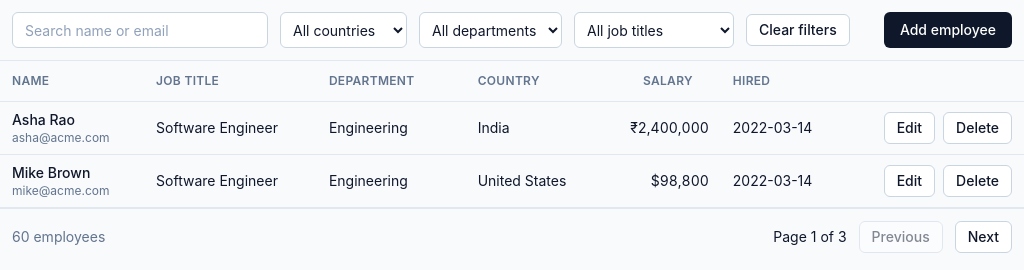
Test: EmployeesPage › paging › loads the next page when Next is clicked
The image size is (1024, 270).
Expected: the text "Asha Rao" is shown, [12, 110, 75, 128]
Click the button "Next" at (983, 236), box [955, 220, 1012, 252]
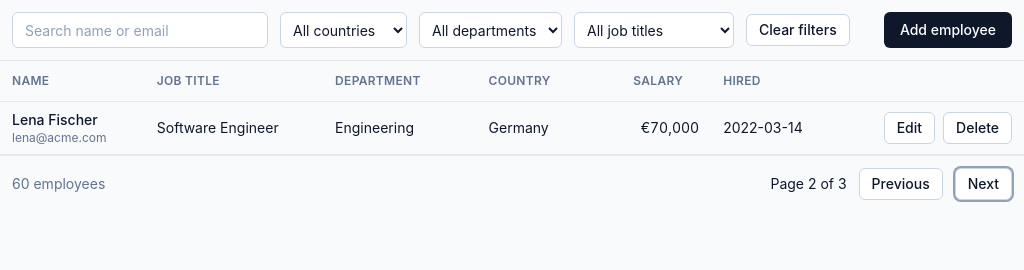
Expected: the text "Lena Fischer" is shown, [12, 110, 98, 128]
Expected: the text "Page 2 of 3" is shown, [770, 174, 847, 194]
